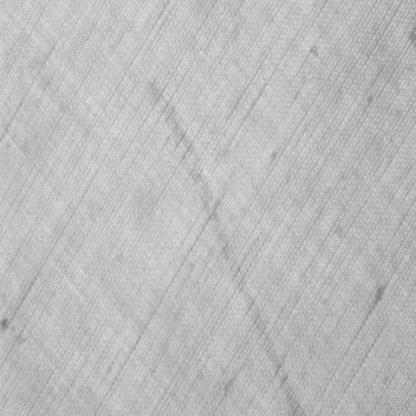oil spot: (145, 73, 303, 416)
